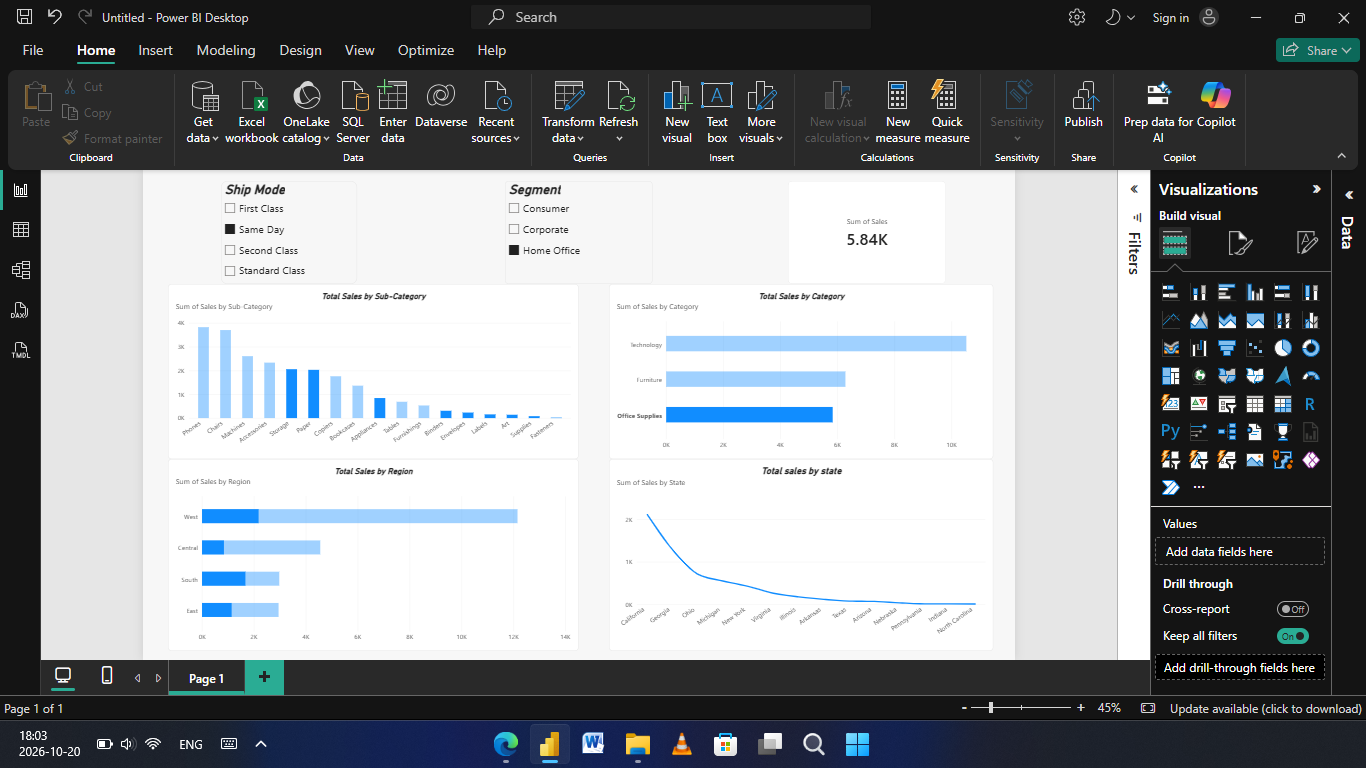

The dashboard page shown, as its layout file describes it:
{"tool":"powerbi","page":{"name":"Page 1","canvas":[1920,1080],"ordinal":0},"visuals":[{"type":"cardVisual","fields":{"Data":["Sum(SampleSuperstore.Sales)"]},"box":[1421.6,24.2,347.7,226.8],"z":0},{"type":"clusteredBarChart","title":"Total Sales by Category","fields":{"Category":["SampleSuperstore.Category"],"Y":["Sum(SampleSuperstore.Sales)"]},"box":[1028,252,846.6,385.5],"z":1},{"type":"clusteredColumnChart","title":"Total Sales by Sub-Category","fields":{"Category":["SampleSuperstore.Sub-Category"],"Y":["Sum(SampleSuperstore.Sales)"]},"box":[55.4,252,904.6,385.5],"z":2},{"type":"clusteredBarChart","title":"Total Sales by Region","fields":{"Category":["SampleSuperstore.Region"],"Y":["Sum(SampleSuperstore.Sales)"]},"box":[55.4,637.5,904.6,423.3],"z":3},{"type":"slicer","fields":{"Values":["SampleSuperstore.Segment"]},"box":[797.9,24.2,325,226.8],"z":4},{"type":"slicer","fields":{"Values":["SampleSuperstore.Ship Mode"]},"box":[171.9,24.2,300,227],"z":5},{"type":"lineChart","title":"Total sales by state","fields":{"Category":["SampleSuperstore.State"],"Y":["Sum(SampleSuperstore.Sales)"]},"box":[1028,637.5,846.6,423.3],"z":7}]}

Visuals, with their boxes on the page's 1920x1080 design canvas (x1, y1, x2, y2). These are canvas units, not pixel positions in the 1366x768 screenshot, which may show the page scaled, cropped or inside an application window:
cardVisual - Sum(SampleSuperstore.Sales): x1=1422 y1=24 x2=1769 y2=251
"Total Sales by Category" clusteredBarChart: x1=1028 y1=252 x2=1875 y2=638
"Total Sales by Sub-Category" clusteredColumnChart: x1=55 y1=252 x2=960 y2=638
"Total Sales by Region" clusteredBarChart: x1=55 y1=638 x2=960 y2=1061
slicer - SampleSuperstore.Segment: x1=798 y1=24 x2=1123 y2=251
slicer - SampleSuperstore.Ship Mode: x1=172 y1=24 x2=472 y2=251
"Total sales by state" lineChart: x1=1028 y1=638 x2=1875 y2=1061
